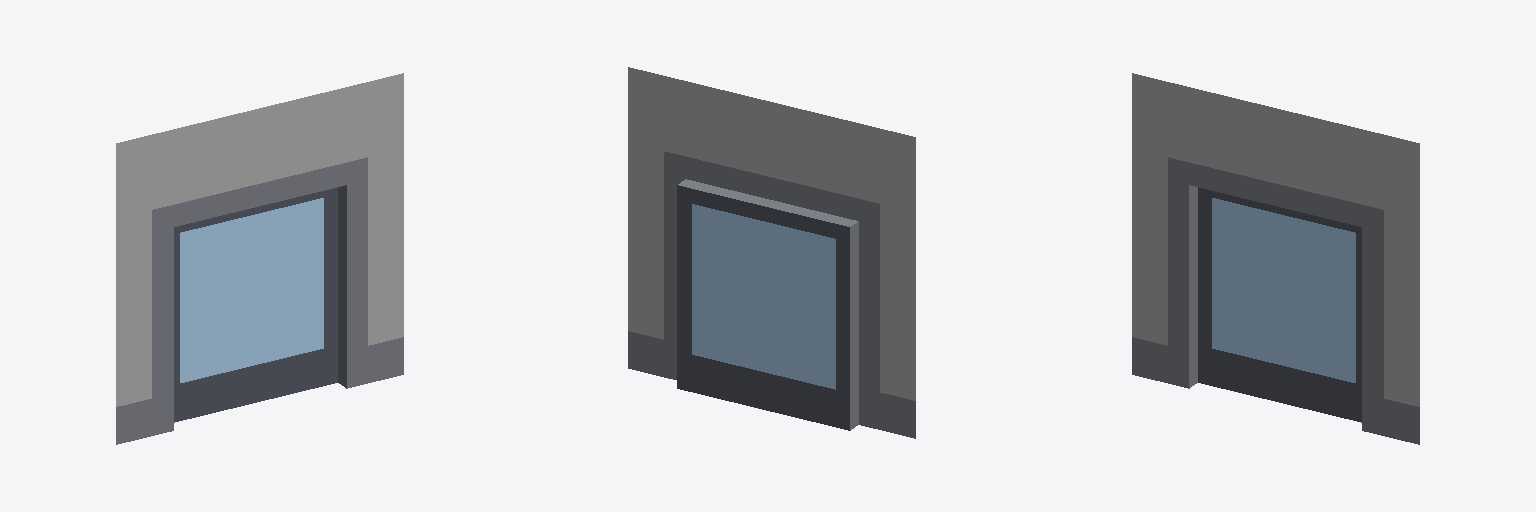
Rendered from wall_windowE.obj.
The picture shows the model from 3 angles: view 1: azimuth 30°, elevation 25°; view 2: azimuth 150°, elevation 25°; view 3: azimuth 330°, elevation 25°; orthographic projection.
Visible parts, largest first — view 1: wall_windowE; view 2: wall_windowE; view 3: wall_windowE.
Boxes of the visible parts, x1,y1,x2,y2 form: wall_windowE: [116, 73, 403, 444]; wall_windowE: [628, 67, 915, 438]; wall_windowE: [1132, 73, 1419, 444].
Bounding box in the file's own units: 0.4 × 0.4 × 0.02.